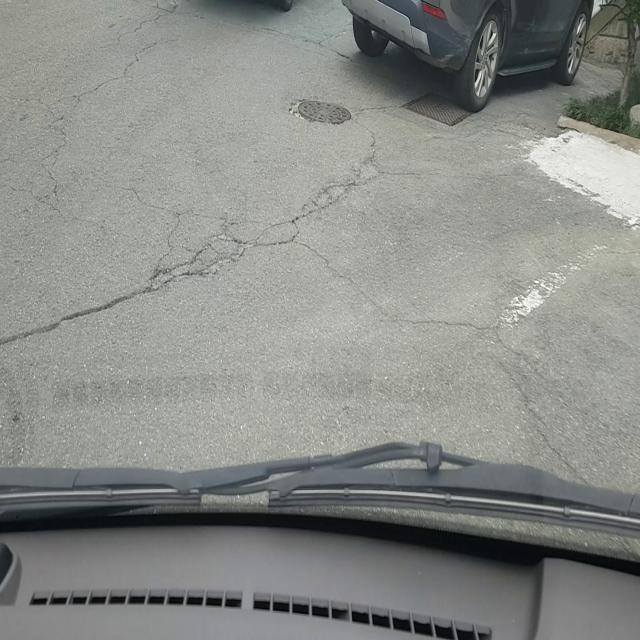Pothole: (287, 93, 353, 129)
